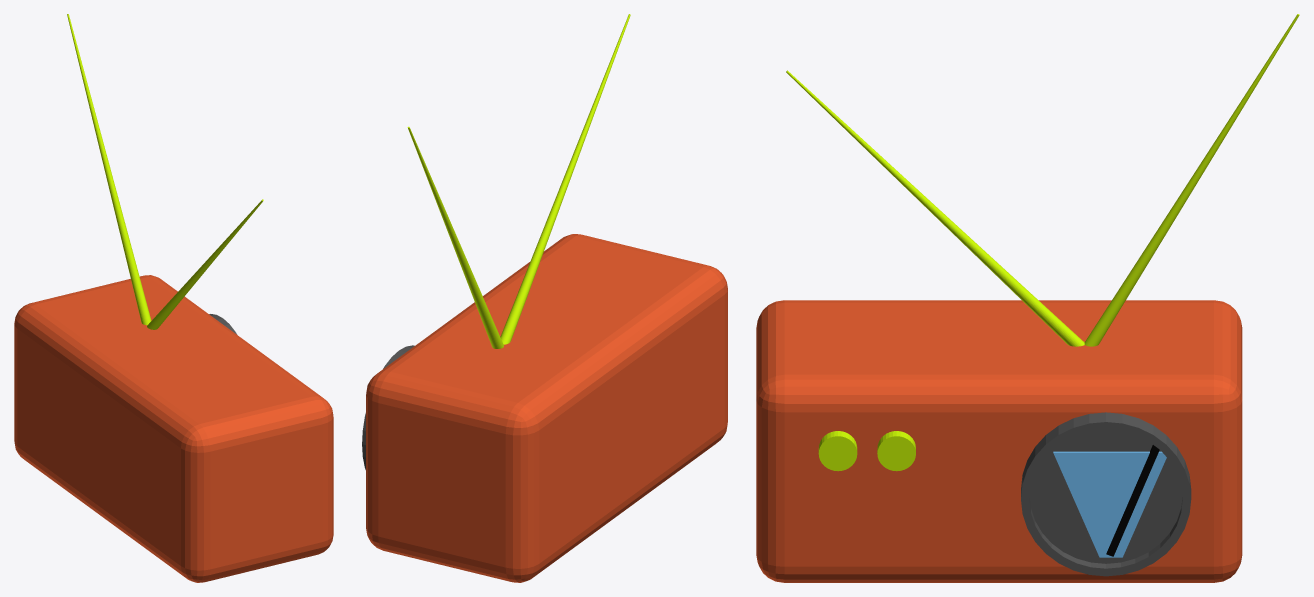
The model's file is radio_on.fbx.
3 renders of one model, left to right at view 1: azimuth 30°, elevation 25°; view 2: azimuth 150°, elevation 25°; view 3: azimuth 270°, elevation 25°, orthographic. The views are drawn at different scales.
Visible parts, largest first — view 1: Cube, Cylinder.004, Cylinder.005; view 2: Cube, Cylinder.005, Cylinder.004; view 3: Cube, Cylinder.001, Cube.001, Cylinder.005, Cylinder.004, Cylinder.003, Cylinder.002, Cube.002.
Part boxes in pixels (x1=…): Cube: x1=14, y1=275, x2=333, y2=582; Cylinder.004: x1=67, y1=14, x2=151, y2=325; Cylinder.005: x1=147, y1=199, x2=263, y2=329; Cube: x1=366, y1=234, x2=727, y2=582; Cylinder.005: x1=500, y1=14, x2=630, y2=344; Cylinder.004: x1=407, y1=126, x2=503, y2=348; Cube: x1=756, y1=300, x2=1242, y2=582; Cylinder.001: x1=1021, y1=412, x2=1191, y2=576; Cube.001: x1=1053, y1=451, x2=1166, y2=557; Cylinder.005: x1=786, y1=70, x2=1084, y2=346; Cylinder.004: x1=1084, y1=14, x2=1299, y2=346; Cylinder.003: x1=877, y1=431, x2=915, y2=471; Cylinder.002: x1=818, y1=431, x2=857, y2=471; Cube.002: x1=1106, y1=445, x2=1159, y2=556.
Bounding box in the file's own units: 220 × 520 × 478.
